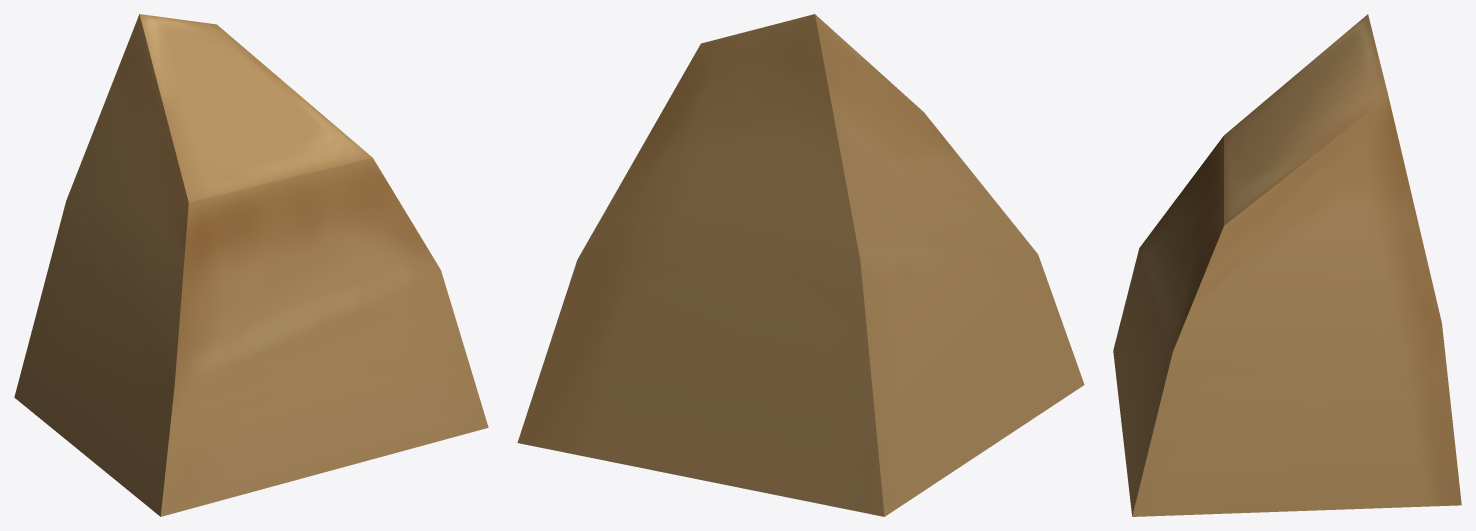
Rendered from rock1.fbx.
3 renders of one model, left to right at view 1: azimuth 30°, elevation 25°; view 2: azimuth 150°, elevation 25°; view 3: azimuth 270°, elevation 25°, orthographic. The views are drawn at different scales.
Visible parts, largest first — view 1: rock1; view 2: rock1; view 3: rock1.
Part boxes in pixels (bbox=[...]): rock1: bbox=[14, 14, 488, 516]; rock1: bbox=[517, 14, 1084, 516]; rock1: bbox=[1113, 14, 1461, 516].
Bounding box in the file's own units: 72.74 × 79.3 × 64.48.
